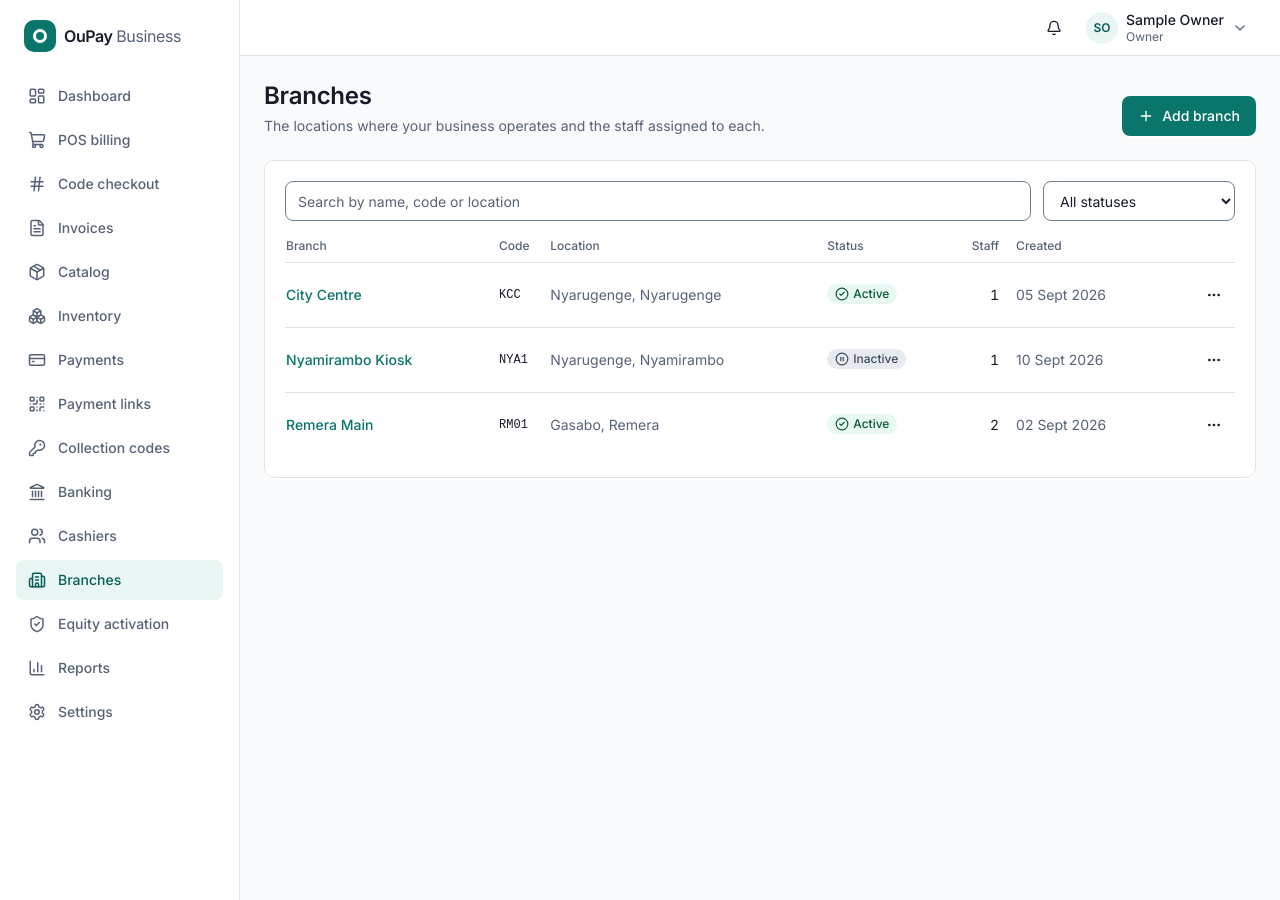
Test case: creating a branch › requires the mandatory fields
expect the table is shown: met, box [285, 237, 1235, 457]
Click the button "Add branch": (1189, 116) [1122, 96, 1256, 136]
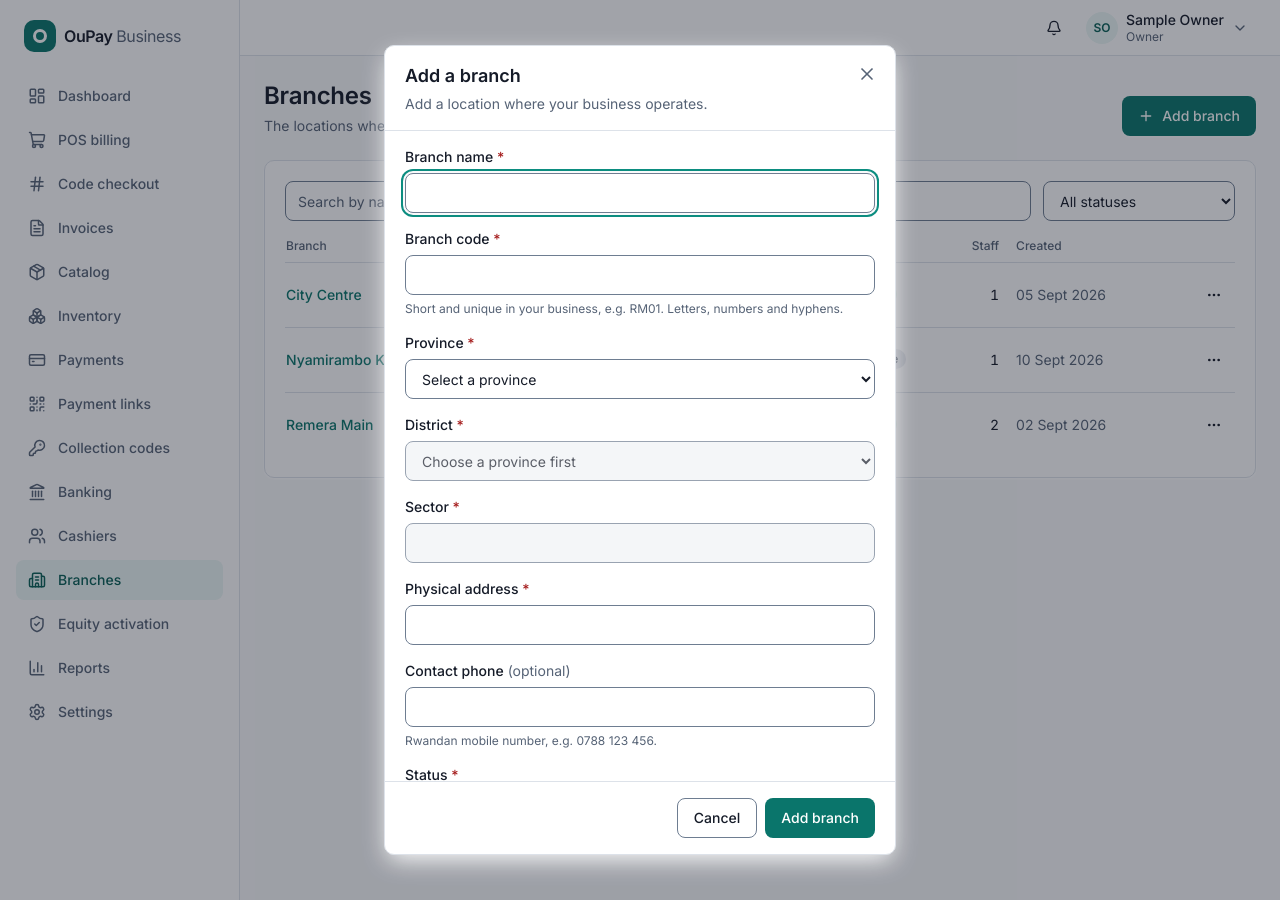
Click the button "Add branch": (820, 818) [765, 798, 875, 838]
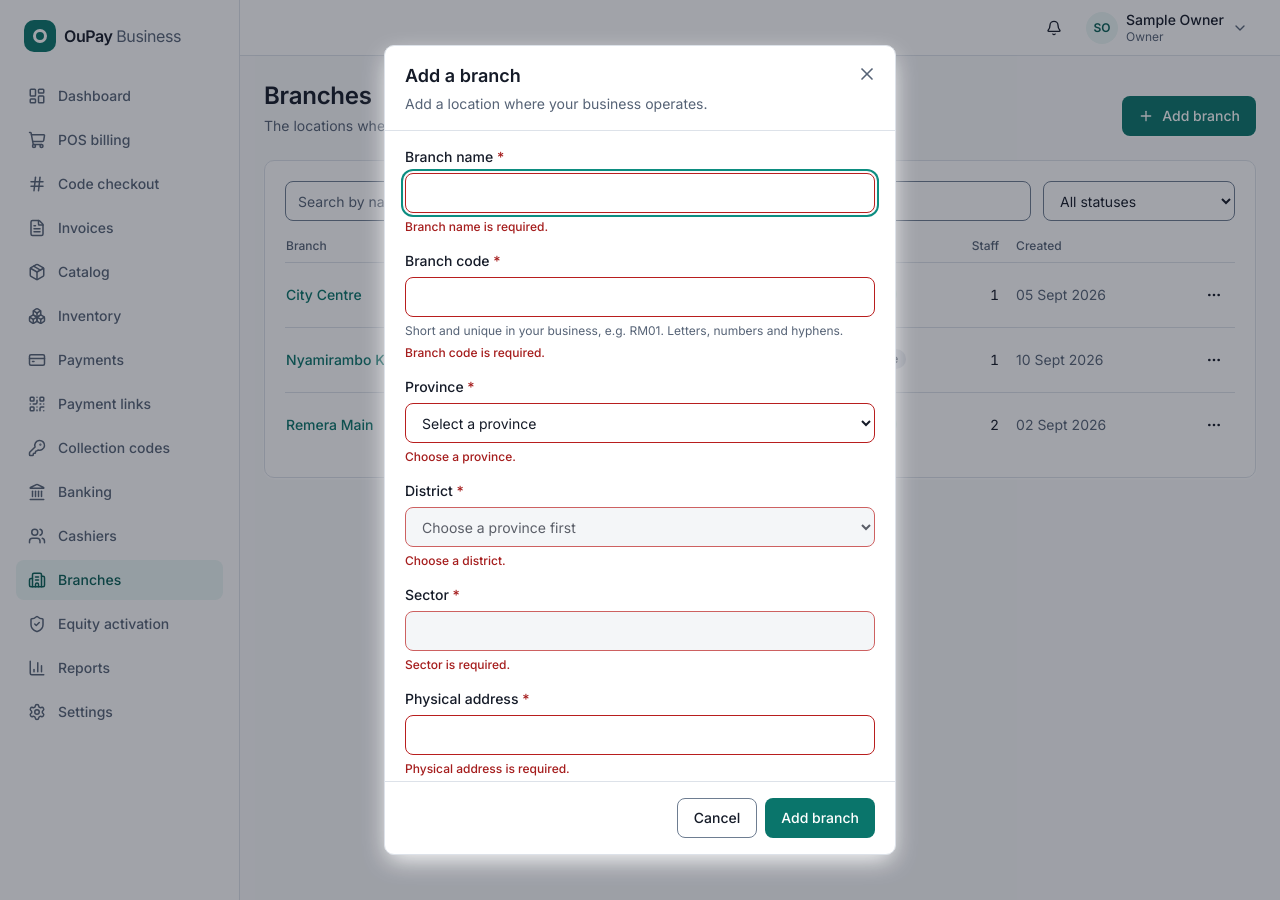
expect the text "Branch name is required." is shown: met, box [405, 219, 548, 234]
expect the text "Branch code is required." is shown: met, box [405, 345, 545, 360]
expect the text "Choose a province." is shown: met, box [405, 449, 516, 464]
